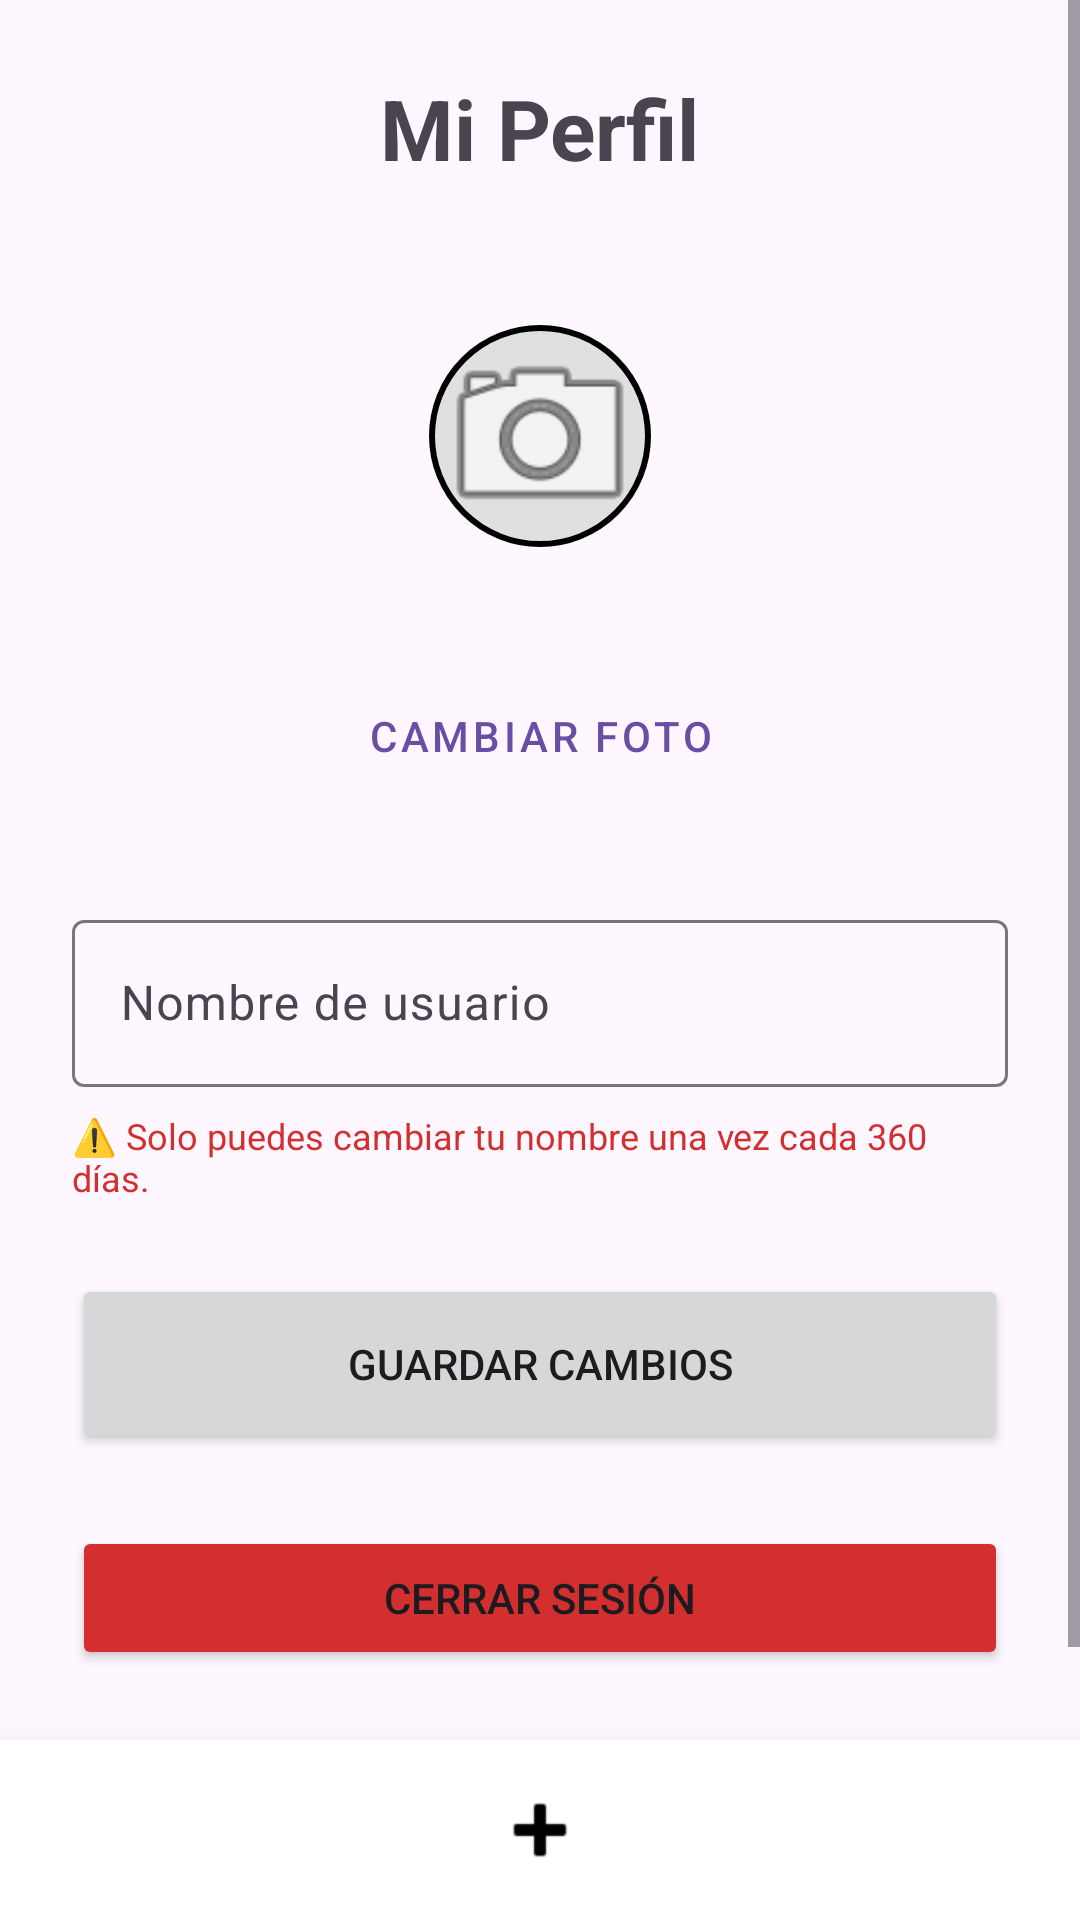

Named icons in this screenshot (1080px x 1920px) and their bounding boxes, [x1=x1, y1=y1, x2=x2, y2=y2]:
camera: [x1=429, y1=325, x2=651, y2=547]
Crear: [x1=513, y1=1803, x2=567, y2=1857]
